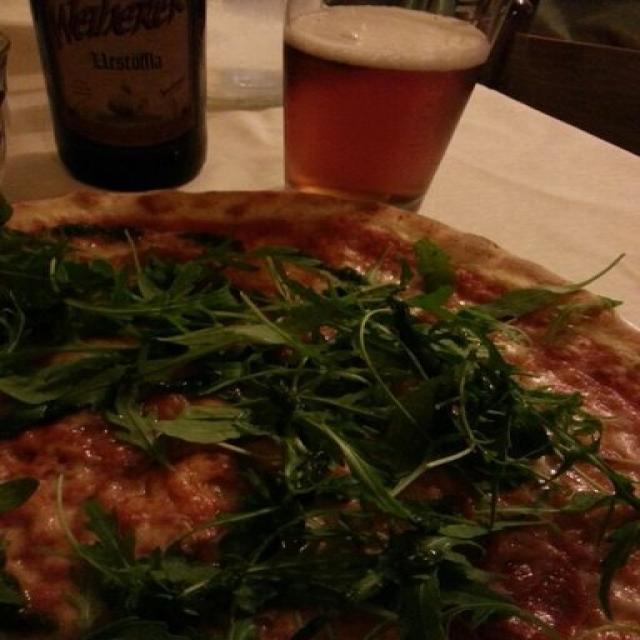Pizza: (0, 190, 640, 640)
Rucola: (8, 229, 569, 436), (189, 447, 522, 640), (543, 454, 640, 610), (67, 508, 171, 634)
